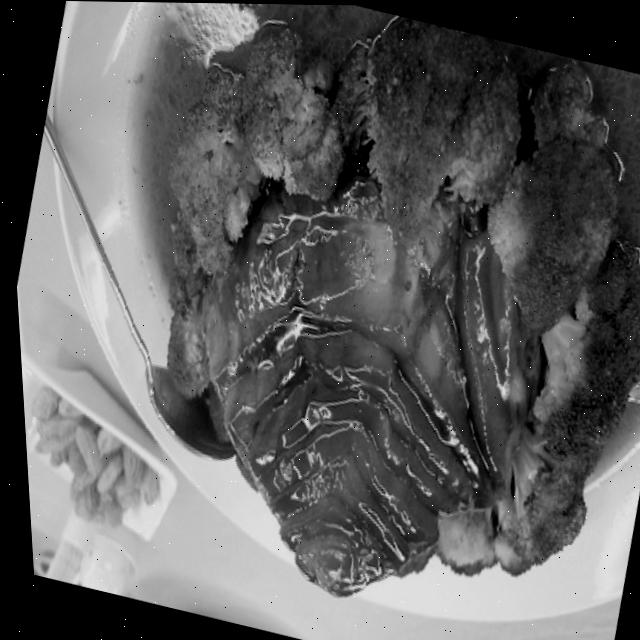牛肉菜式: (88, 21, 640, 640)
